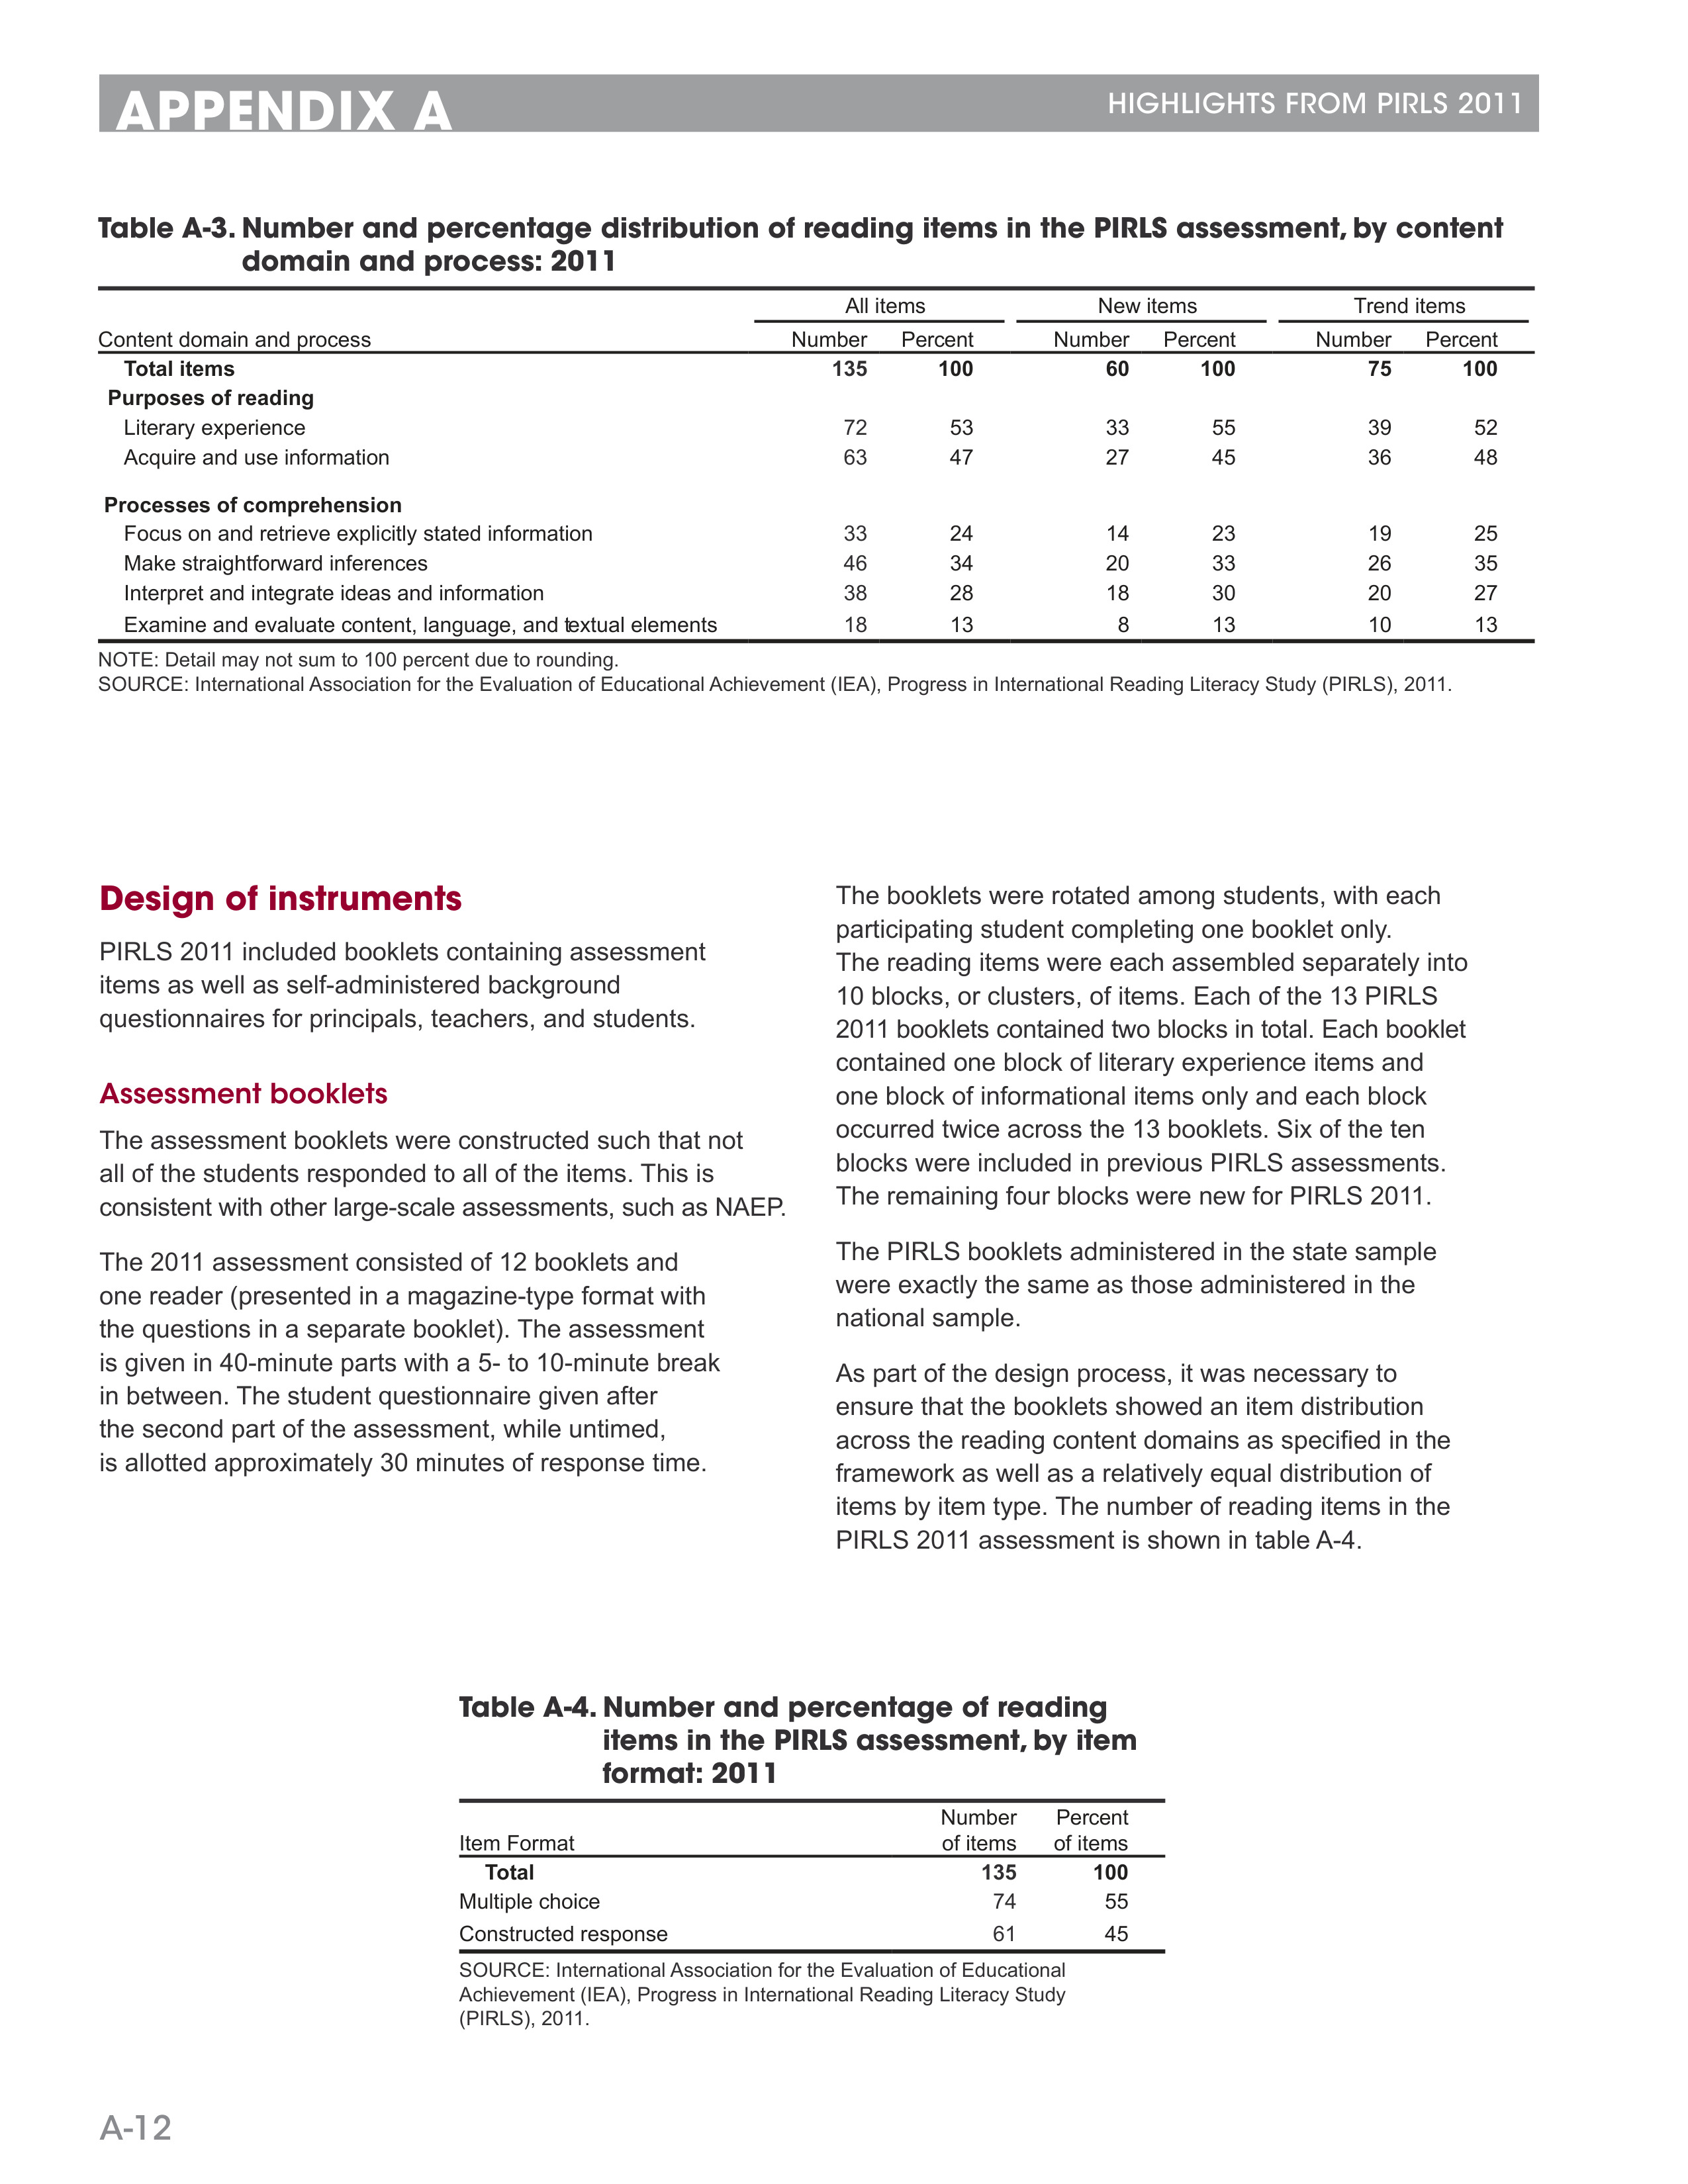table: (459, 1805, 1128, 1946)
